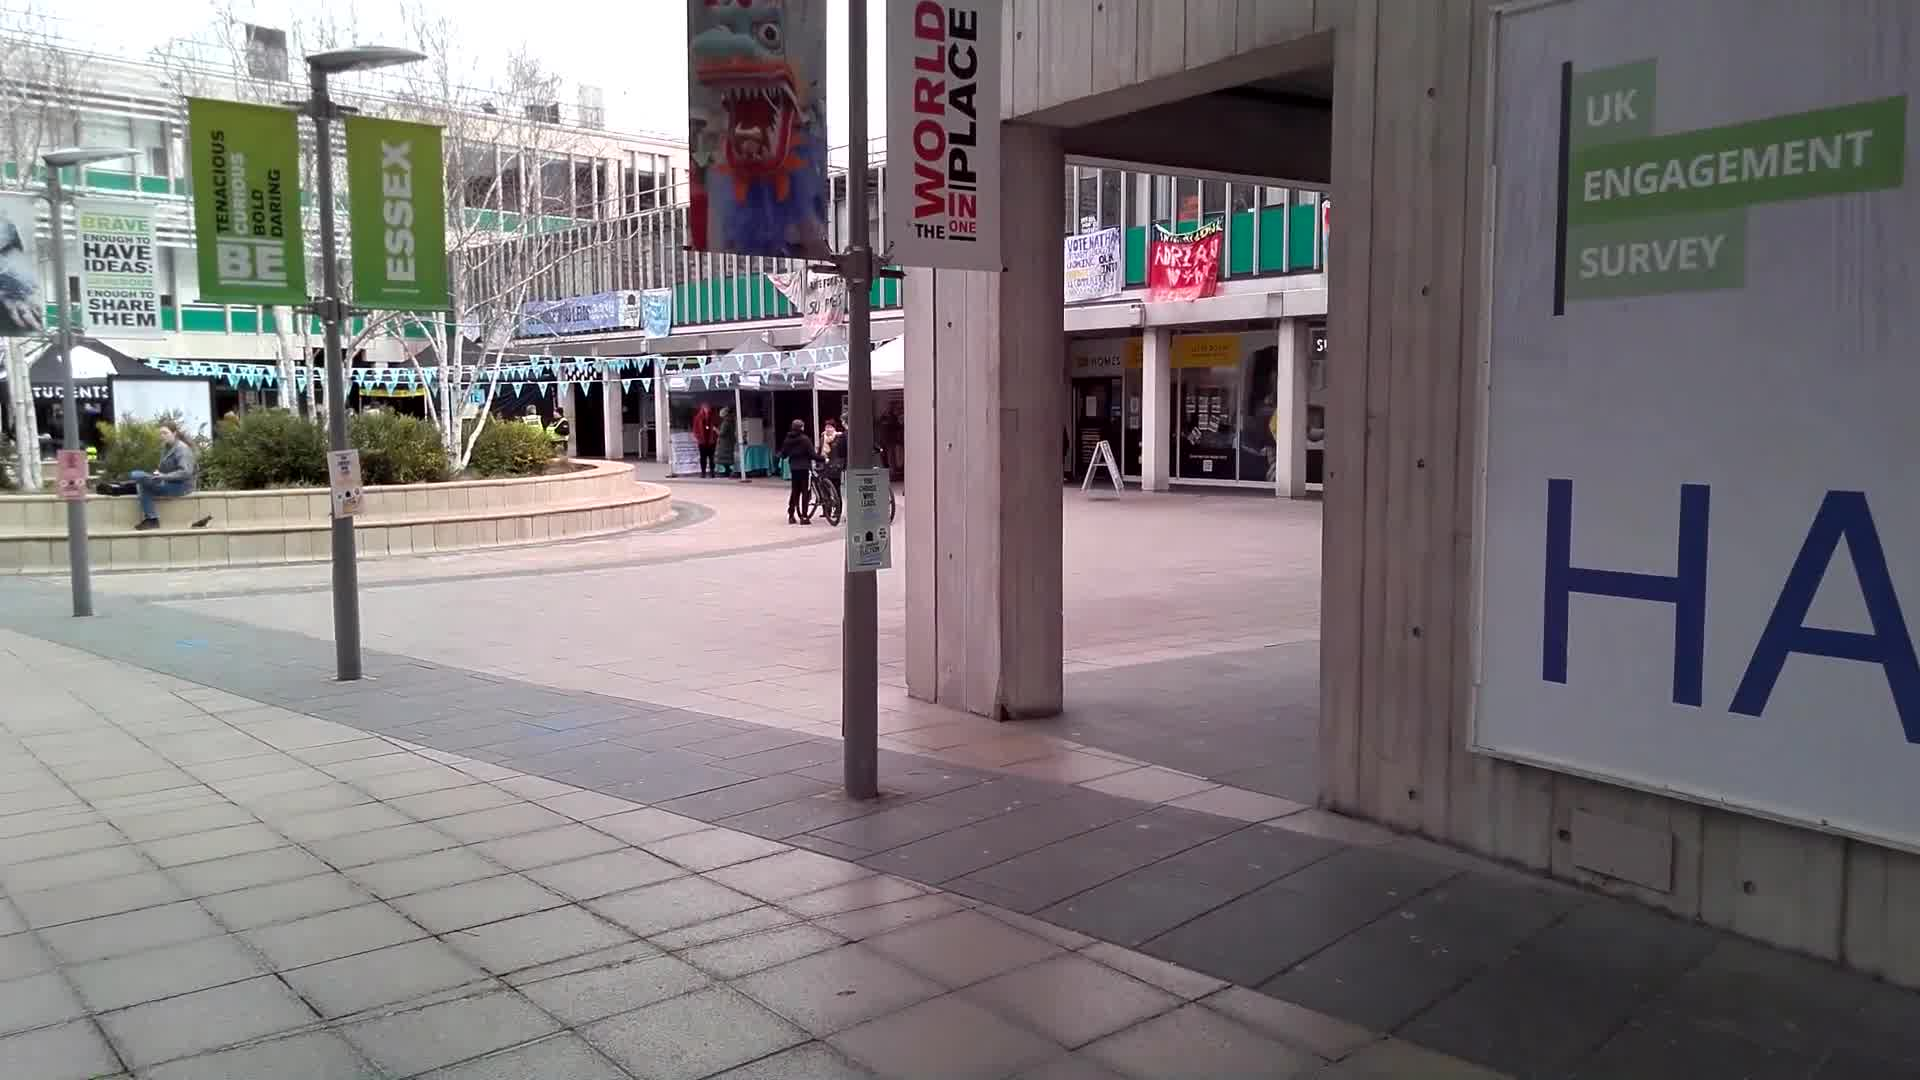Person: (126, 417, 218, 545), (778, 415, 821, 529)
